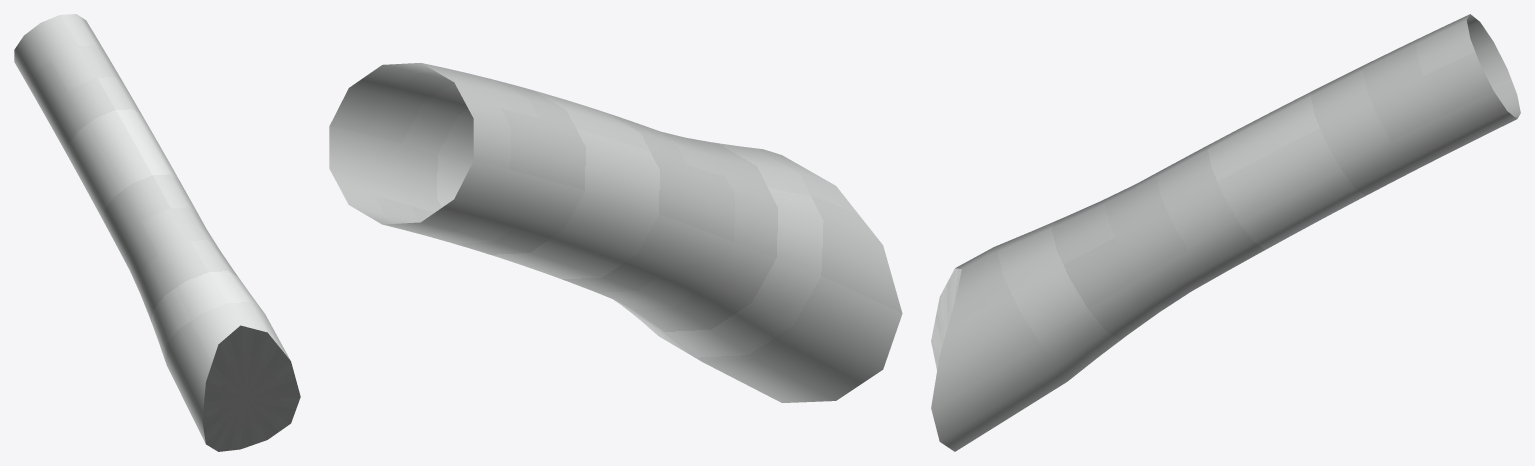
The model's file is luminairearm_caltrans12ft_c0_thin.obj.
3 renders of one model, left to right at view 1: azimuth 30°, elevation 25°; view 2: azimuth 150°, elevation 25°; view 3: azimuth 270°, elevation 25°, orthographic. The views are drawn at different scales.
Parts seen in each view (by area): view 1: luminairearm_caltrans12ft_c0_thin; view 2: luminairearm_caltrans12ft_c0_thin; view 3: luminairearm_caltrans12ft_c0_thin.
Boxes of the visible parts, <box> form: luminairearm_caltrans12ft_c0_thin: <box>14,14,300,451</box>; luminairearm_caltrans12ft_c0_thin: <box>329,63,902,402</box>; luminairearm_caltrans12ft_c0_thin: <box>931,14,1520,451</box>.
Size of the model in its own units: 0.3375 by 0.9915 by 1.25.
